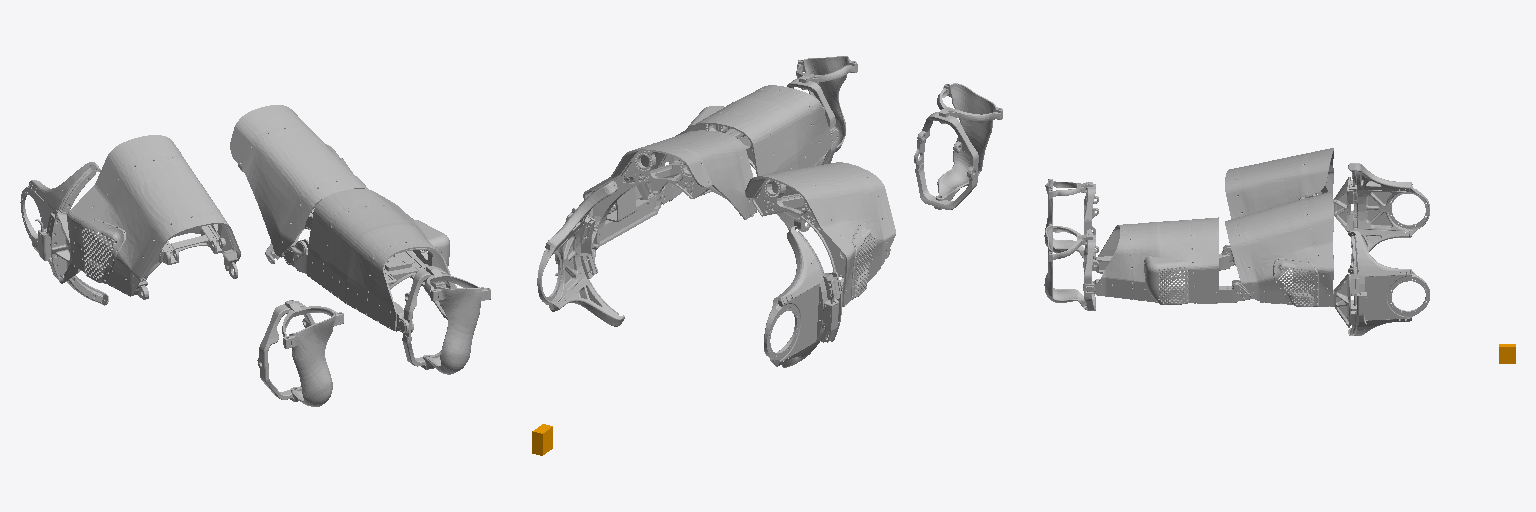
--- Facts derived from the render (not from the file) ---
3 views of the same robot in one strip: view 1: azimuth 30°, elevation 25°; view 2: azimuth 150°, elevation 25°; view 3: azimuth 270°, elevation 25° (orthographic).
Model p3_model with 19 links and 18 joints (12 revolute, 6 fixed), rooted at hip_ground_link, posed all joints at 0.
Visible links, largest first — view 1: right_thigh_link, left_shin_link, left_thigh_link, left_foot_link, right_foot_link, right_hip_fe_link, right_ankle_link, left_ankle_link; view 2: right_thigh_link, left_thigh_link, left_shin_link, right_hip_fe_link, left_hip_f/e_link, right_foot_link, left_foot_link, right_ankle_link, left_ankle_link, P3_IMU; view 3: left_thigh_link, left_shin_link, right_thigh_link, right_hip_fe_link, left_hip_f/e_link, left_foot_link, right_foot_link, left_ankle_link, right_ankle_link.
Link boxes in pixels (bbox=[...]): right_thigh_link: bbox=[35, 135, 240, 299]; left_shin_link: bbox=[284, 189, 456, 333]; left_thigh_link: bbox=[230, 105, 368, 257]; left_foot_link: bbox=[421, 266, 490, 374]; right_foot_link: bbox=[282, 300, 343, 406]; right_hip_fe_link: bbox=[20, 162, 108, 305]; right_ankle_link: bbox=[257, 301, 315, 399]; left_ankle_link: bbox=[402, 267, 456, 366]; right_thigh_link: bbox=[745, 162, 895, 342]; left_thigh_link: bbox=[555, 130, 753, 279]; left_shin_link: bbox=[661, 85, 838, 216]; right_hip_fe_link: bbox=[764, 226, 827, 367]; left_hip_f/e_link: bbox=[537, 181, 624, 326]; right_foot_link: bbox=[934, 83, 1002, 209]; left_foot_link: bbox=[796, 56, 857, 165]; right_ankle_link: bbox=[914, 112, 978, 209]; left_ankle_link: bbox=[787, 79, 836, 164]; P3_IMU: bbox=[532, 424, 552, 455]; left_thigh_link: bbox=[1225, 192, 1367, 327]; left_shin_link: bbox=[1083, 217, 1251, 304]; right_thigh_link: bbox=[1225, 148, 1357, 232]; right_hip_fe_link: bbox=[1348, 163, 1429, 273]; left_hip_f/e_link: bbox=[1348, 231, 1429, 335]; left_foot_link: bbox=[1044, 224, 1092, 309]; right_foot_link: bbox=[1044, 179, 1092, 258]; left_ankle_link: bbox=[1084, 235, 1098, 310]; right_ankle_link: bbox=[1084, 184, 1098, 258].
Size in the robot's own frame: 0.5987 by 1.13 by 0.4388 metres.
Meshes: 18 distinct files referenced, 10 mesh visuals loaded (10 binary STL); not drawn: 8 (reference not matched to a file when rendering).

robot.urdf — p3_model:
<robot
  name="p3_model">
  <!-- <link name="world"/>
  <joint name="Fixed_World_Offset" type="fixed">
    <parent link="world"/>
    <child link="hip_ground_link"/>
    <origin xyz="0 0 1.0" rpy="1.57 0 0" />
  </joint> -->
  <link
    name="hip_ground_link">
    <inertial>
      <origin
        xyz="-0.00252 -0.04174 -0.21963"
        rpy="0 0 0" />
      <mass
        value="9.1437" />
      <inertia
        ixx="0.11497"
        ixy="-0.0021392"
        ixz="0.00014109"
        iyy="0.059666"
        iyz="0.022583"
        izz="0.16206" />
    </inertial>
    <visual>
      <origin
        xyz="0 0 0"
        rpy="0 0 0" />
      <geometry>
        <mesh
          filename="meshes/hip_ground_link.STL" />
      </geometry>
      <material
        name="">
        <color
          rgba="0.75294 0.75294 0.75294 1" />
      </material>
    </visual>
    <collision>
      <origin
        xyz="0 0 0"
        rpy="0 0 0" />
      <geometry>
        <mesh
          filename="meshes/hip_ground_link.STL" />
      </geometry>
    </collision>
  </link>
  <joint
    name="Sagit_P3_Hip_FT_Sensor"
    type="fixed">
    <origin
      xyz="0 -0.015 -0.15247"
      rpy="0 0 0" />
    <parent
      link="hip_ground_link" />
    <child
      link="hip_f/t_sensor" />
    <axis
      xyz="0 0 0" />
  </joint>
  <link
    name="hip_f/t_sensor">
    <inertial>
      <origin
        xyz="-0.000549097540975381 0.000203175483258886 -0.00714130419826856"
        rpy="0 0 0" />
      <mass
        value="0.046215262898878" />
      <inertia
        ixx="0"
        ixy="0"
        ixz="0"
        iyy="0"
        iyz="0"
        izz="0" />
    </inertial>
    <visual>
      <origin
        xyz="0 0 0"
        rpy="0 0 0" />
      <geometry>
        <mesh
          filename="meshes/hip_f_t_sensor.STL" />
      </geometry>
      <material
        name="">
        <color
          rgba="0.752941176470588 0.752941176470588 0.752941176470588 1" />
      </material>
    </visual>
    <collision>
      <origin
        xyz="0 0 0"
        rpy="0 0 0" />
      <geometry>
        <mesh
          filename="meshes/hip_f_t_sensor.STL" />
      </geometry>
    </collision>
  </link>
<!-- IMU Joint/Link -->
  <joint
    name="Sagit_P3_IMU_joint"
    type="fixed">
    <origin
      xyz="0.136 0.134 -0.179"
      rpy="1.5708 0 -1.5708" />
    <parent
      link="hip_ground_link" />
    <child
      link="P3_IMU" />
    <axis
      xyz="0 0 0" />
  </joint>
  <link
    name="P3_IMU">
    <inertial>
      <origin
        xyz="0 0 0"
        rpy="0 0 0" />
      <mass
        value="0.25" />
      <inertia
        ixx="0"
        ixy="0"
        ixz="0"
        iyy="0"
        iyz="0"
        izz="0" />
    </inertial>
    <visual>
      <origin
        xyz="-0.0193 -0.0224 0.01075"
        rpy="0 0 0" />
     <geometry>
       <box size="0.0386 0.0448 0.0215" />
     </geometry>
      <material
        name="">
        <color
          rgba="1 0.64705882352 0 1" />
      </material>
    </visual>
    <collision>
      <origin
        xyz="0 0 0"
        rpy="0 0 0" />
     <geometry>
       <box size="0.0386 0.0448 0.0215" />
     </geometry>
    </collision>
  </link>

   <!-- P3 RIGHT SIDE -->


  <joint
    name="Sagit_P3_Abduction_Right"
    type="revolute">
    <origin
      xyz="-0.1025 -0.19938 -0.15461"
      rpy="-0.52046 -0.060105 -0.10442" />
    <parent
      link="hip_ground_link" />
    <child
      link="right_hip_abd/add_link" />
    <axis
      xyz="0 0 1" />
    <limit
      effort="0"
      velocity="0"
      lower="-0.611"
      upper="0.873" />
  </joint>
  <link
    name="right_hip_abd/add_link">
    <inertial>
      <origin
        xyz="-0.14506 0.02434 0.14214"
        rpy="0 0 0" />
      <mass
        value="2.37" />
      <inertia
        ixx="0.0114056540911523"
        ixy="-0.00168082766225483"
        ixz="0.00610247598439131"
        iyy="0.0151927917692044"
        iyz="0.00334524244885922"
        izz="0.006361868744477" />
    </inertial>
    <visual>
      <origin
        xyz="0 0 0"
        rpy="0 0 0" />
      <geometry>
        <mesh
          filename="meshes/right_hip_abd_add_link.STL" />
      </geometry>
      <material
        name="">
        <color
          rgba="0.752941176470588 0.752941176470588 0.752941176470588 1" />
      </material>
    </visual>
    <collision>
      <origin
        xyz="0 0 0"
        rpy="0 0 0" />
      <geometry>
        <mesh
          filename="meshes/right_hip_abd_add_link.STL" />
      </geometry>
    </collision>
  </link>
  <joint
    name="Sagit_P3_Flexion_Right"
    type="revolute">
    <origin
      xyz="-0.1475 0.00075 0.1992"
      rpy="0.5236 6.245E-17 -2.1164E-16" />
    <parent
      link="right_hip_abd/add_link" />
    <child
      link="right_hip_fe_link" />
    <axis
      xyz="1 0 0" />
    <limit
      effort="0"
      velocity="0"
      lower="-1.963"
      upper="0.262" />
  </joint>
  <link
    name="right_hip_fe_link">
    <inertial>
      <origin
        xyz="0.02125 -0.10906 0.00004"
        rpy="0 0 0" />
      <mass
        value="2.38" />
      <inertia
        ixx="0.00334659558092072"
        ixy="0.000217334132544034"
        ixz="-4.16170985997141E-07"
        iyy="0.00237506737299935"
        iyz="-5.9660412382548E-07"
        izz="0.00110550421000643" />
    </inertial>
    <visual>
      <origin
        xyz="0 0 0"
        rpy="0 0 0" />
      <geometry>
        <mesh
          filename="meshes/right_hip_fe_link.STL" />
      </geometry>
      <material
        name="">
        <color
          rgba="0.752941176470588 0.752941176470588 0.752941176470588 1" />
      </material>
    </visual>
    <collision>
      <origin
        xyz="0 0 0"
        rpy="0 0 0" />
      <geometry>
        <mesh
          filename="meshes/right_hip_fe_link.STL" />
      </geometry>
    </collision>
  </link>
  <!-- type can be switched from fixed to revolute -->
  <!-- <joint
    name="Sagit_P3_Hip_Yaw_Right"
    type="revolute"> -->
  <joint
    name="Sagit_P3_Hip_Yaw_Right_Passive"
    type="revolute">
  <!-- <joint
    name="Sagit_P3_Hip_Yaw_Right_Passive"
    type="fixed"> -->
    <origin
      xyz="0.1475 -0.142 0"
      rpy="8.5825E-16 2.0817E-17 -9.5678E-16" />
    <parent
      link="right_hip_fe_link" />
    <child
      link="right_thigh_link" />
    <axis
      xyz="0 1 0" />
    <limit
      effort="0"
      velocity="0"
      lower="-0.611"
      upper="0.611" />
  </joint>
  <link
    name="right_thigh_link">
    <inertial>
      <origin
        xyz="-0.02903 -0.11972 0.09439"
        rpy="0 0 0" />
      <mass
        value="3.19" />
      <inertia
        ixx="0.0162000606171735"
        ixy="0.00879667099291498"
        ixz="-0.00473963596430454"
        iyy="0.0136139183996148"
        iyz="0.00400927557737052"
        izz="0.0214349854288065" />
    </inertial>
    <visual>
      <origin
        xyz="0 0 0"
        rpy="0 0 0" />
      <geometry>
        <mesh
          filename="meshes/right_thigh_link.STL" />
      </geometry>
      <material
        name="">
        <color
          rgba="0.752941176470588 0.752941176470588 0.752941176470588 1" />
      </material>
    </visual>
    <collision>
      <origin
        xyz="0 0 0"
        rpy="0 0 0" />
      <geometry>
        <mesh
          filename="meshes/right_thigh_link.STL" />
      </geometry>
    </collision>
  </link>
  <joint
    name="Sagit_P3_Thigh_Right_FT_Sensor"
    type="fixed">
    <origin
      xyz="0 -0.18709 0.081984"
      rpy="-3.1416 0.2618 -1.5708" />
    <parent
      link="right_thigh_link" />
    <child
      link="right_thigh_f/t_sensor" />
    <axis
      xyz="0 0 0" />
  </joint>
  <link
    name="right_thigh_f/t_sensor">
    <inertial>
      <origin
        xyz="-0.000549094925531513 0.000203174302725456 -0.00714130327248891"
        rpy="0 0 0" />
      <mass
        value="0.0462152585935042" />
      <inertia
        ixx="0"
        ixy="0"
        ixz="0"
        iyy="0"
        iyz="0"
        izz="0" />
    </inertial>
    <visual>
      <origin
        xyz="0 0 0"
        rpy="0 0 0" />
      <geometry>
        <mesh
          filename="meshes/right_thigh_f_t_sensor.STL" />
      </geometry>
      <material
        name="">
        <color
          rgba="0.752941176470588 0.752941176470588 0.752941176470588 1" />
      </material>
    </visual>
    <collision>
      <origin
        xyz="0 0 0"
        rpy="0 0 0" />
      <geometry>
        <mesh
          filename="meshes/right_thigh_f_t_sensor.STL" />
      </geometry>
    </collision>
  </link>
  <joint
    name="Sagit_P3_Knee_Right"
    type="revolute">
    <origin
      xyz="0 -0.24432 0"
      rpy="0.00089208 0.008516 0.10437" />
    <parent
      link="right_thigh_link" />
    <child
      link="right_shin_link" />
    <!-- <axis xyz="0.99452 -0.10418 0.0085625" /> -->
    <axis xyz="0.99452 -0.10418 0.0" />
    <limit
      effort="0"
      velocity="0"
      lower="-0.06876597252"
      upper="2.026" />
  </joint>
  <link
    name="right_shin_link">
    <inertial>
      <origin
        xyz="-0.00627 -0.16404 0.06308"
        rpy="0 0 0" />
      <mass
        value="3.008" />
      <inertia
        ixx="0.00565266471326236"
        ixy="0.000368043140130914"
        ixz="-0.000180057149522133"
        iyy="0.00647059198020386"
        iyz="8.11953392731939E-05"
        izz="0.00936046386714468" />
    </inertial>
    <visual>
      <origin
        xyz="0 0 0"
        rpy="0 0 0" />
      <geometry>
        <mesh
          filename="meshes/right_shin_link.STL" />
      </geometry>
      <material
        name="">
        <color
          rgba="0.752941176470588 0.752941176470588 0.752941176470588 1" />
      </material>
    </visual>
    <collision>
      <origin
        xyz="0 0 0"
        rpy="0 0 0" />
      <geometry>
        <mesh
          filename="meshes/right_shin_link.STL" />
      </geometry>
    </collision>
  </link>
  <joint
    name="Sagit_P3_Shin_Right_FT_Sensor"
    type="fixed">
    <origin
      xyz="0 -0.23345 0.051125"
      rpy="-3.1416 0.087266 -1.5708" />
    <parent
      link="right_shin_link" />
    <child
      link="right_shin_f/t_sensor" />
    <axis
      xyz="0 0 0" />
  </joint>
  <link
    name="right_shin_f/t_sensor">
    <inertial>
      <origin
        xyz="-0.00054909438467865 0.000203173734973194 -0.00714130365667479"
        rpy="0 0 0" />
      <mass
        value="0.0462152574279291" />
      <inertia
        ixx="0"
        ixy="0"
        ixz="0"
        iyy="0"
        iyz="0"
        izz="0" />
    </inertial>
    <visual>
      <origin
        xyz="0 0 0"
        rpy="0 0 0" />
      <geometry>
        <mesh
          filename="meshes/right_shin_f_t_sensor.STL" />
      </geometry>
      <material
        name="">
        <color
          rgba="0.752941176470588 0.752941176470588 0.752941176470588 1" />
      </material>
    </visual>
    <collision>
      <origin
        xyz="0 0 0"
        rpy="0 0 0" />
      <geometry>
        <mesh
          filename="meshes/right_shin_f_t_sensor.STL" />
      </geometry>
    </collision>
  </link>
  <joint
    name="Sagit_P3_Ankle_Right"
    type="revolute">
    <origin
      xyz="0 -0.366 0"
      rpy="6.0715E-17 -6.9389E-18 -6.1407E-17" />
    <parent
      link="right_shin_link" />
    <child
      link="right_ankle_link" />
    <axis
      xyz="1 0 0" />
    <limit
      effort="0"
      velocity="0"
      lower="-0.524"
      upper="0.611" />
  </joint>
  <link
    name="right_ankle_link">
    <inertial>
      <origin
        xyz="-0.00869 -0.00026 0.00844"
        rpy="0 0 0" />
      <mass
        value="0.238" />
      <inertia
        ixx="0"
        ixy="0"
        ixz="0"
        iyy="0"
        iyz="0"
        izz="0" />
    </inertial>
    <visual>
      <origin
        xyz="0 0 0"
        rpy="0 0 0" />
      <geometry>
        <mesh
          filename="meshes/right_ankle_link.STL" />
      </geometry>
      <material
        name="">
        <color
          rgba="0.752941176470588 0.752941176470588 0.752941176470588 1" />
      </material>
    </visual>
    <collision>
      <origin
        xyz="0 0 0"
        rpy="0 0 0" />
      <geometry>
        <mesh
          filename="meshes/right_ankle_link.STL" />
      </geometry>
    </collision>
  </link>
  <!-- type can be switched from fixed to revolute -->
  <joint
    name="Sagit_P3_Ankle_Roll_Right_Passive"
    type="revolute">
  <!-- <joint
    name="Sagit_P3_Ankle_Roll_Right_Passive"
    type="fixed"> -->
    <origin
      xyz="0 0 0"
      rpy="1.249E-16 2.7756E-17 -1.7483E-18" />
    <parent
      link="right_ankle_link" />
    <child
      link="right_foot_link" />
    <axis
      xyz="0 0 1" />
    <limit
      effort="0"
      velocity="0"
      lower="-0.61086523819"
      upper="0.61086523819" />
  </joint>
  <link
    name="right_foot_link">
    <inertial>
      <origin
        xyz="-0.00462 -0.06907 0.01783"
        rpy="0 0 0" />
      <mass
        value="0.25" />
      <inertia
        ixx="0.000519364982683758"
        ixy="-3.94937974568523E-06"
        ixz="-8.31252166845822E-06"
        iyy="0.000448807847817588"
        iyz="-0.000155919814858676"
        izz="7.12502428327461E-05" />
    </inertial>
    <visual>
      <origin
        xyz="0 0 0"
        rpy="0 0 0" />
      <geometry>
        <mesh
          filename="meshes/right_foot_link.STL" />
      </geometry>
      <material
        name="">
        <color
          rgba="0.752941176470588 0.752941176470588 0.752941176470588 1" />
      </material>
    </visual>
    <collision>
      <origin
        xyz="0 0 0"
        rpy="0 0 0" />
      <geometry>
        <mesh
          filename="meshes/right_foot_link.STL" />
      </geometry>
    </collision>
  </link>


  <!-- P3 LEFT SIDE -->

  <joint
    name="Sagit_P3_Abduction_Left"
    type="revolute">
    <origin
      xyz="0.1025 -0.19938 -0.15461"
      rpy="-0.52046 0.060105 0.10442" />
    <parent
      link="hip_ground_link" />
    <child
      link="left_hip_abd/add_link" />
    <axis
      xyz="0 0 1" />
    <limit
      effort="0"
      velocity="0" 
      lower="-0.873"
      upper="0.611" />
  </joint>
  <link
    name="left_hip_abd/add_link">
    <inertial>
      <origin
        xyz="0.14506 0.02434 0.14214"
        rpy="0 0 0" />
      <mass
        value="2.37" />
      <inertia
        ixx="0.0114068446866524"
        ixy="0.00169215045489832"
        ixz="-0.00609776421988829"
        iyy="0.0152202238013214"
        iyz="0.00333339595861607"
        izz="0.00633648666768316" />
    </inertial>
    <visual>
      <origin
        xyz="0 0 0"
        rpy="0 0 0" />
      <geometry>
        <mesh
          filename="meshes/left_hip_abd_add_link.STL" />
      </geometry>
      <material
        name="">
        <color
          rgba="0.752941176470588 0.752941176470588 0.752941176470588 1" />
      </material>
    </visual>
    <collision>
      <origin
        xyz="0 0 0"
        rpy="0 0 0" />
      <geometry>
        <mesh
          filename="meshes/left_hip_abd_add_link.STL" />
      </geometry>
    </collision>
  </link>
  <joint
    name="Sagit_P3_Flexion_Left"
    type="revolute">
    <origin
      xyz="0.1475 0.000749999999997086 0.199200961894321"
      rpy="2.61799387799151 1.17961196366423E-16 -3.14159265358979" />
    <parent
      link="left_hip_abd/add_link" />
    <child
      link="left_hip_f/e_link" />
    <axis
      xyz="-1 0 0" />
    <limit
      effort="0"
      velocity="0" 
      lower="-1.963"
      upper="0.262" />
  </joint>
  <link
    name="left_hip_f/e_link">
    <inertial>
      <origin
        xyz="0.02125 -0.10906 -0.00004"
        rpy="0 0 0" />
      <mass
        value="2.38" />
      <inertia
        ixx="0.00334659534923131"
        ixy="-0.00021733411032375"
        ixz="-4.17436685358473E-07"
        iyy="0.00237506751126287"
        iyz="5.98503333828489E-07"
        izz="0.00110550394464832" />
    </inertial>
    <visual>
      <origin
        xyz="0 0 0"
        rpy="0 0 0" />
      <geometry>
        <mesh
          filename="meshes/left_hip_f_e_link.STL" />
      </geometry>
      <material
        name="">
        <color
          rgba="0.752941176470588 0.752941176470588 0.752941176470588 1" />
      </material>
    </visual>
    <collision>
      <origin
        xyz="0 0 0"
        rpy="0 0 0" />
      <geometry>
        <mesh
          filename="meshes/left_hip_f_e_link.STL" />
      </geometry>
    </collision>
  </link>
    <!-- type can be switched from fixed to revolute -->
  <!-- <joint
    name="Sagit_P3_Hip_Yaw_Left"
    type="revolute"> -->
  <joint
    name="Sagit_P3_Hip_Yaw_Left_Passive"
    type="revolute">
  <!-- <joint
    name="Sagit_P3_Hip_Yaw_Left_Passive"
    type="fixed"> -->
    <!-- <origin
      xyz="0.1475 -0.38632 0"
      rpy="3.1416 6.9389E-18 3.1416" /> -->
    <origin
      xyz="0.1475 -0.142 0"
      rpy="3.1416 0 3.1416" />
    <parent
      link="left_hip_f/e_link" />
    <child
      link="left_thigh_link" />
    <axis
      xyz="0 1 0" />
    <limit
      effort="0"
      velocity="0"
      lower="-0.611"
      upper="0.611" />
  </joint>
  <link
    name="left_thigh_link">
    <inertial>
      <origin
        xyz="0.02903 -0.11972 0.09439"
        rpy="0 0 0" />
      <mass
        value="3.19" />
      <inertia
        ixx="0.016212536412593"
        ixy="-0.00880042705630205"
        ixz="0.00473054710313293"
        iyy="0.0136057751524905"
        iyz="0.00402602232001844"
        izz="0.0214236911621945" />
    </inertial>
    <visual>
      <origin
        xyz="0 0 0"
        rpy="0 0 0" />
      <geometry>
        <!-- <mesh
          filename="meshes/left_thigh_link_new.STL" /> -->
        <mesh
          filename="meshes/left_thigh_link_new.STL" />
      </geometry>
      <material
        name="">
        <color
          rgba="0.752941176470588 0.752941176470588 0.752941176470588 1" />
      </material>
    </visual>
    <collision>
      <origin
        xyz="0 0 0"
        rpy="0 0 0" />
      <geometry>
        <mesh
          filename="meshes/left_thigh_link_new.STL" />
      </geometry>
    </collision>
  </link>
  <joint
    name="Sagit_P3_Thigh_Left_FT_Sensor"
    type="fixed">
    <!-- <origin
      xyz="0 0.057231 0.081984"
      rpy="3.1416 -0.2618 1.5708" /> -->
    <origin
      xyz="0 -0.18709 0.081984"
      rpy="3.1416 -0.2618 1.5708" />
    <parent
      link="left_thigh_link" />
    <child
      link="left_thigh_f/t_sensor" />
    <axis
      xyz="0 0 0" />
  </joint>
  <link
    name="left_thigh_f/t_sensor">
    <inertial>
      <origin
        xyz="-0.000549098781895185 0.000203177676691299 -0.00714130533313195"
        rpy="0 0 0" />
      <mass
        value="0.0462152726226985" />
      <inertia
        ixx="0"
        ixy="0"
        ixz="0"
        iyy="0"
        iyz="0"
        izz="0" />
    </inertial>
    <visual>
      <origin
        xyz="0 0 0"
        rpy="0 0 0" />
      <geometry>
        <mesh
          filename="meshes/left_thigh_f_t_sensor.STL" />
      </geometry>
      <material
        name="">
        <color
          rgba="0.752941176470588 0.752941176470588 0.752941176470588 1" />
      </material>
    </visual>
    <collision>
      <origin
        xyz="0 0 0"
        rpy="0 0 0" />
      <geometry>
        <mesh
          filename="meshes/left_thigh_f_t_sensor.STL" />
      </geometry>
    </collision>
  </link>
  <joint
    name="Sagit_P3_Knee_Left"
    type="revolute">
    <!-- <origin
      xyz="0 0 0"
      rpy="0.00089208 -0.008516 -0.10437" /> -->
    <origin
      xyz="0 -0.244324789874438 0"
      rpy="0.000892082957046399 -0.00851601606974494 -0.104374173664101" /> 
    <parent
      link="left_thigh_link" />
    <child
      link="left_shin_link" />
    <!-- <axis xyz="0.99452 0.10418 -0.0085625" /> -->
    <axis xyz="0.99452 0.10418 0" />
    <limit
      effort="0"
      velocity="0" 
      lower="-0.06876597252"
      upper="2.026" />
  </joint>
  <link
    name="left_shin_link">
    <inertial>
      <origin
        xyz="0.00627 -0.16404 0.06308"
        rpy="0 0 0" />
      <mass
        value="3.008" />
      <inertia
        ixx="0.00504703161814173"
        ixy="-0.000450518314816275"
        ixz="0.000185881782874105"
        iyy="0.0061518494956966"
        iyz="0.000102189439066134"
        izz="0.00853566850735276" />
    </inertial>
    <visual>
      <origin
        xyz="0 0 0"
        rpy="0 0 0" />
      <geometry>
        <mesh
          filename="meshes/left_shin_link.STL" />
      </geometry>
      <material
        name="">
        <color
          rgba="0.752941176470588 0.752941176470588 0.752941176470588 1" />
      </material>
    </visual>
    <collision>
      <origin
        xyz="0 0 0"
        rpy="0 0 0" />
      <geometry>
        <mesh
          filename="meshes/left_shin_link.STL" />
      </geometry>
    </collision>
  </link>
  <joint
    name="Sagit_P3_Shin_Left_FT_Sensor"
    type="fixed">
    <origin
      xyz="0 -0.23345 0.051125"
      rpy="-3.1416 0.087266 -1.5708" />
    <parent
      link="left_shin_link" />
    <child
      link="left_shin_f/t_sensor" />
    <axis
      xyz="0 0 0" />
  </joint>
  <link
    name="left_shin_f/t_sensor">
    <inertial>
      <origin
        xyz="-0.000549094379241555 0.000203173732842121 -0.00714130365575216"
        rpy="0 0 0" />
      <mass
        value="0.0462152574093924" />
      <inertia
        ixx="0"
        ixy="0"
        ixz="0"
        iyy="0"
        iyz="0"
        izz="0" />
    </inertial>
    <visual>
      <origin
        xyz="0 0 0"
        rpy="0 0 0" />
      <geometry>
        <mesh
          filename="meshes/left_shin_f_t_sensor.STL" />
      </geometry>
      <material
        name="">
        <color
          rgba="0.752941176470588 0.752941176470588 0.752941176470588 1" />
      </material>
    </visual>
    <collision>
      <origin
        xyz="0 0 0"
        rpy="0 0 0" />
      <geometry>
        <mesh
          filename="meshes/left_shin_f_t_sensor.STL" />
      </geometry>
    </collision>
  </link>
  <joint
    name="Sagit_P3_Ankle_Left"
    type="revolute">
    <origin
      xyz="0 -0.366 0"
      rpy="2.3896E-16 -2.7756E-17 -8.5923E-18" />
    <parent
      link="left_shin_link" />
    <child
      link="left_ankle_link" />
    <axis
      xyz="1 0 0" />
    <limit
      effort="0"
      velocity="0"
      lower="-0.524"
      upper="0.611" /> />
  </joint>
  <link
    name="left_ankle_link">
    <inertial>
      <origin
        xyz="0.00869 -0.00026 0.00844"
        rpy="0 0 0" />
      <mass
        value="0.238" />
      <inertia
        ixx="0"
        ixy="0"
        ixz="0"
        iyy="0"
        iyz="0"
        izz="0" />
    </inertial>
    <visual>
      <origin
        xyz="0 0 0"
        rpy="0 0 0" />
      <geometry>
        <mesh
          filename="meshes/left_ankle_link.STL" />
      </geometry>
      <material
        name="">
        <color
          rgba="0.752941176470588 0.752941176470588 0.752941176470588 1" />
      </material>
    </visual>
    <collision>
      <origin
        xyz="0 0 0"
        rpy="0 0 0" />
      <geometry>
        <mesh
          filename="meshes/left_ankle_link.STL" />
      </geometry>
    </collision>
  </link>
  <!-- type can be switched from fixed to revolute -->
  <joint
    name="Sagit_P3_Ankle_Roll_Left_Passive"
    type="revolute">
  <!-- <joint
    name="Sagit_P3_Ankle_Roll_Left_Passive"
    type="fixed"> -->
    <origin
      xyz="0 0 0"
      rpy="6.1149E-17 6.9389E-18 2.6021E-18" />
    <parent
      link="left_ankle_link" />
    <child
      link="left_foot_link" />
    <axis
      xyz="0 0 1" />
    <limit
      effort="0"
      velocity="0"
      lower="-0.61086523819"
      upper="0.61086523819" />
  </joint>
  <link
    name="left_foot_link">
    <inertial>
      <origin
        xyz="0.00462 -0.06907 0.01783"
        rpy="0 0 0" />
      <mass
        value="0.25" />
      <inertia
        ixx="0.000203368320611764"
        ixy="1.75946030813124E-06"
        ixz="2.64328867261215E-06"
        iyy="0.000172404922248118"
        iyz="-5.2526247182956E-05"
        izz="3.1166332016296E-05" />
    </inertial>
    <visual>
      <origin
        xyz="0 0 0"
        rpy="0 0 0" />
      <geometry>
        <mesh
          filename="meshes/left_foot_link.STL" />
      </geometry>
      <material
        name="">
        <color
          rgba="0.752941176470588 0.752941176470588 0.752941176470588 1" />
      </material>
    </visual>
    <collision>
      <origin
        xyz="0 0 0"
        rpy="0 0 0" />
      <geometry>
        <mesh
          filename="meshes/left_foot_link.STL" />
      </geometry>
    </collision>
  </link>
</robot>
